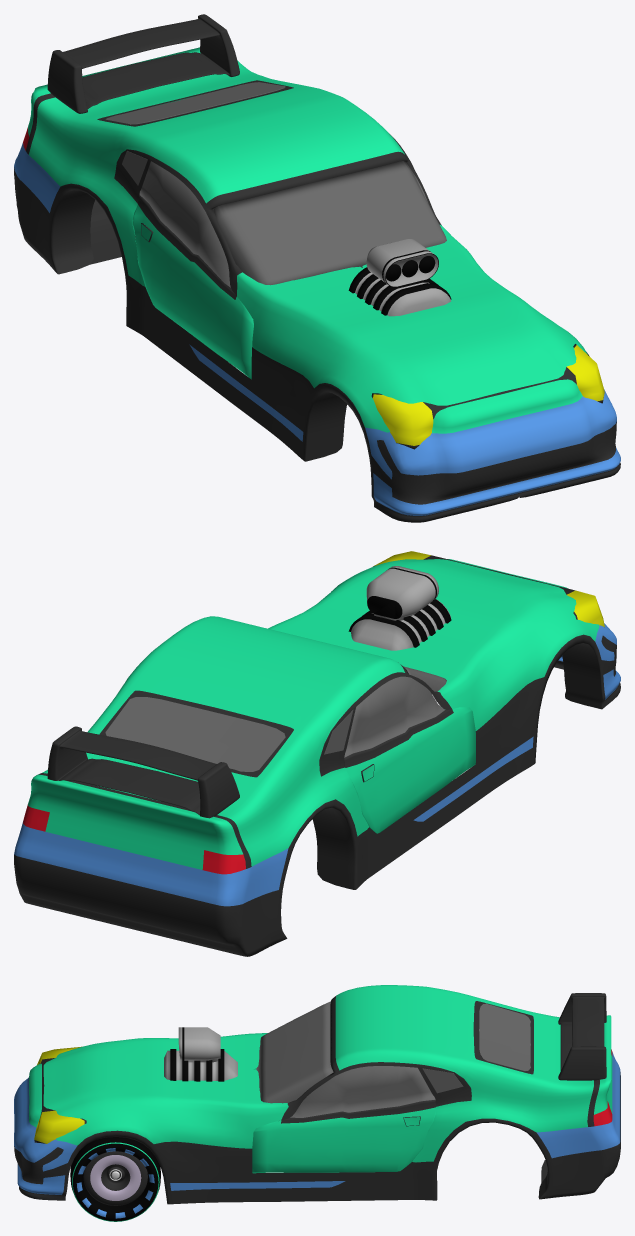
File: CarUnwrap.V3.fbx
The picture shows the model from 3 angles, top to bottom: view 1: azimuth 30°, elevation 25°; view 2: azimuth 150°, elevation 25°; view 3: azimuth 270°, elevation 25°; orthographic projection. The views are drawn at different scales.
Visible parts, largest first — view 1: CarMain, WindowFront, Doors, Spoiler, FrontLights, EngineBotom, EngineTop, WindowBack; view 2: CarMain, Doors, Spoiler, WindowBack, EngineBotom, EngineTop, FrontLights, WindowsBackSmall; view 3: CarMain, Doors, Wheels, WindowFront, Spoiler, WindowBack, EngineBotom, FrontLights, EngineTop, WindowsBackSmall.
Boxes of the visible parts, bbox=[...] form: CarMain: bbox=[14, 47, 620, 522]; WindowFront: bbox=[213, 161, 446, 285]; Doors: bbox=[132, 161, 427, 379]; Spoiler: bbox=[47, 14, 239, 113]; FrontLights: bbox=[371, 344, 604, 449]; EngineBotom: bbox=[348, 267, 451, 316]; EngineTop: bbox=[366, 239, 438, 287]; WindowBack: bbox=[105, 82, 285, 124]; CarMain: bbox=[14, 559, 620, 956]; Doors: bbox=[344, 676, 475, 833]; Spoiler: bbox=[47, 726, 239, 818]; WindowBack: bbox=[105, 697, 285, 771]; EngineBotom: bbox=[348, 599, 451, 650]; EngineTop: bbox=[366, 566, 438, 620]; FrontLights: bbox=[372, 551, 604, 627]; WindowsBackSmall: bbox=[324, 710, 353, 754]; CarMain: bbox=[14, 985, 620, 1204]; Doors: bbox=[252, 1066, 436, 1173]; Wheels: bbox=[70, 1137, 160, 1221]; WindowFront: bbox=[256, 1001, 333, 1103]; Spoiler: bbox=[558, 993, 606, 1080]; WindowBack: bbox=[479, 1003, 530, 1071]; EngineBotom: bbox=[164, 1049, 237, 1081]; FrontLights: bbox=[34, 1046, 86, 1143]; EngineTop: bbox=[178, 1027, 220, 1062]; WindowsBackSmall: bbox=[422, 1068, 463, 1093].
Bounding box in the file's own units: 238 × 201 × 689.
